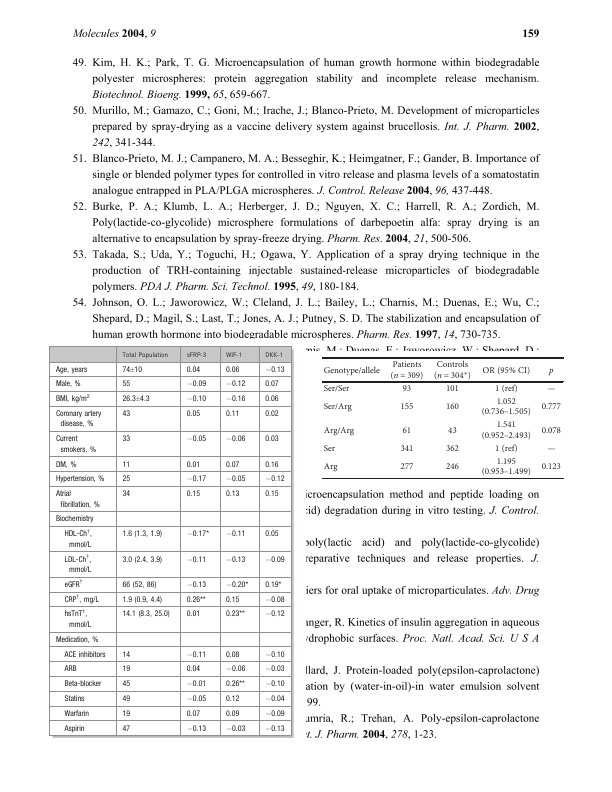bordered: (49, 344, 291, 735)
borderless: (322, 356, 564, 479)
cell: (480, 397, 531, 418), (480, 420, 531, 441), (480, 457, 531, 478), (54, 410, 102, 429), (54, 490, 100, 509), (54, 435, 97, 455), (433, 360, 472, 381), (389, 360, 424, 381), (322, 365, 380, 376), (63, 528, 92, 550), (63, 554, 92, 575), (63, 609, 92, 630), (481, 365, 531, 376), (54, 475, 105, 484), (121, 610, 170, 619), (54, 635, 99, 644), (54, 393, 90, 404), (63, 650, 106, 659), (121, 530, 163, 539), (121, 555, 163, 564), (121, 595, 163, 604), (121, 352, 168, 360), (322, 425, 355, 436), (54, 515, 94, 524), (121, 580, 157, 590), (63, 594, 99, 604), (63, 680, 102, 689), (54, 365, 88, 374), (322, 402, 352, 412), (322, 384, 350, 394), (121, 395, 150, 404), (224, 580, 249, 590), (54, 380, 81, 389), (63, 709, 90, 718), (494, 384, 518, 394), (494, 444, 518, 454), (540, 425, 561, 436), (540, 462, 561, 473), (63, 579, 83, 590), (185, 580, 207, 590), (63, 694, 85, 704), (185, 694, 207, 704), (185, 530, 209, 539), (540, 402, 561, 412), (264, 694, 285, 704), (54, 460, 77, 469), (121, 365, 143, 374), (185, 380, 207, 389), (224, 380, 246, 389), (185, 395, 207, 404), (224, 395, 246, 404), (185, 435, 207, 444), (224, 435, 246, 444), (185, 475, 207, 484), (224, 475, 246, 484), (224, 530, 246, 539), (185, 555, 207, 564), (224, 555, 246, 564), (185, 650, 207, 659), (224, 665, 246, 674), (185, 680, 207, 689), (63, 724, 85, 733), (185, 724, 207, 733), (224, 724, 246, 733), (264, 365, 285, 374), (264, 475, 285, 484), (264, 555, 285, 564), (185, 595, 206, 604), (264, 595, 285, 604), (224, 610, 245, 619), (264, 610, 285, 619), (264, 650, 285, 659), (264, 665, 285, 674), (224, 680, 245, 689), (264, 680, 285, 689), (264, 709, 285, 718), (264, 724, 285, 733), (264, 580, 282, 590), (322, 462, 338, 473), (185, 352, 207, 360), (399, 462, 414, 473), (445, 462, 460, 473), (224, 694, 240, 704), (264, 352, 283, 360), (445, 384, 460, 394), (399, 402, 414, 412), (445, 402, 460, 412), (399, 444, 414, 454), (445, 444, 460, 454), (224, 352, 242, 360), (185, 365, 201, 374), (224, 365, 240, 374), (185, 410, 201, 419), (224, 410, 240, 419), (185, 460, 201, 469), (224, 460, 240, 469), (185, 490, 201, 499), (224, 490, 240, 499), (224, 595, 240, 604), (185, 610, 201, 619), (224, 650, 240, 659), (185, 665, 201, 674), (185, 709, 201, 718), (224, 709, 240, 718), (322, 444, 336, 454), (264, 380, 279, 389), (264, 395, 279, 404), (264, 410, 279, 419), (264, 435, 279, 444), (264, 460, 279, 469), (264, 490, 279, 499), (264, 530, 279, 539), (63, 665, 77, 674), (401, 425, 412, 436), (401, 384, 412, 394), (447, 425, 457, 436), (121, 694, 131, 704), (121, 380, 131, 389), (121, 410, 131, 419), (121, 435, 131, 444), (121, 460, 131, 469), (121, 475, 131, 484), (121, 490, 131, 499), (121, 650, 131, 659), (121, 665, 131, 674), (121, 680, 131, 689), (121, 709, 131, 718), (121, 724, 131, 733), (548, 367, 554, 376), (546, 388, 556, 392), (546, 448, 556, 452)
